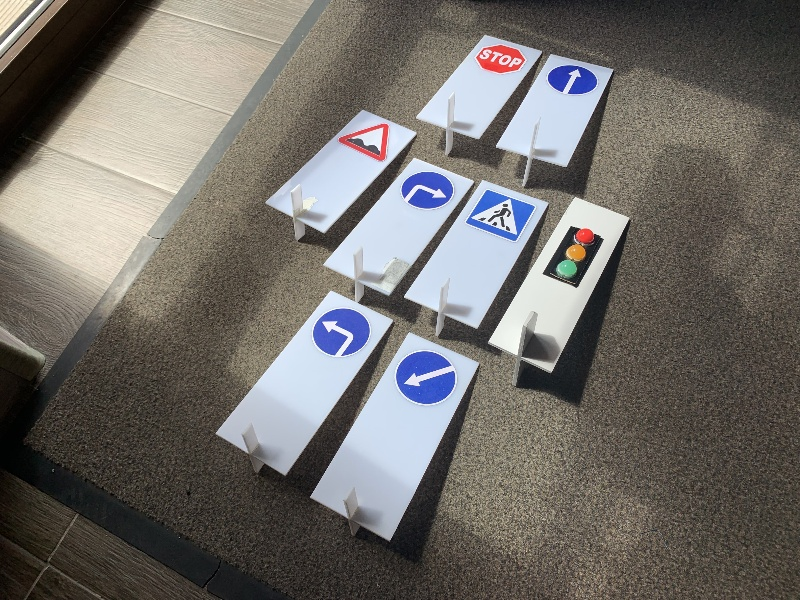Left: (314, 310, 371, 358)
Nerov: (341, 122, 388, 165)
Right: (400, 170, 451, 213)
Stop: (475, 46, 527, 72)
forw: (547, 63, 599, 98)
pesh: (469, 189, 537, 239)
prep: (395, 350, 458, 408)
